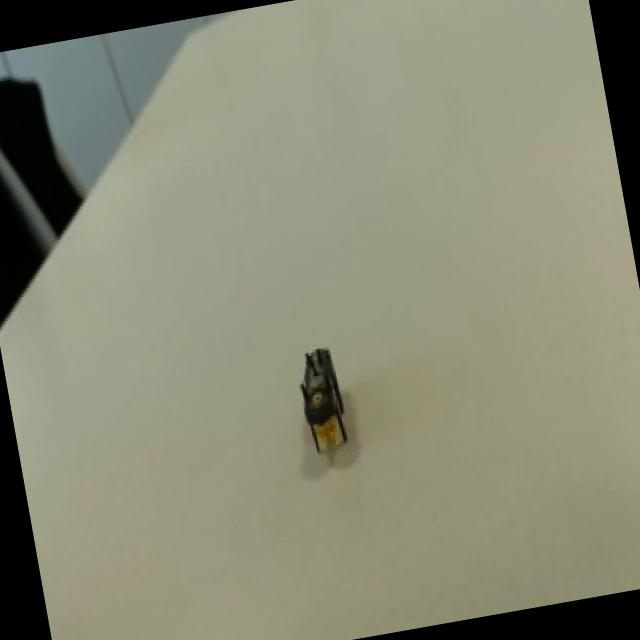6_NanoBug_GrisOscuro: (260, 323, 370, 472)
